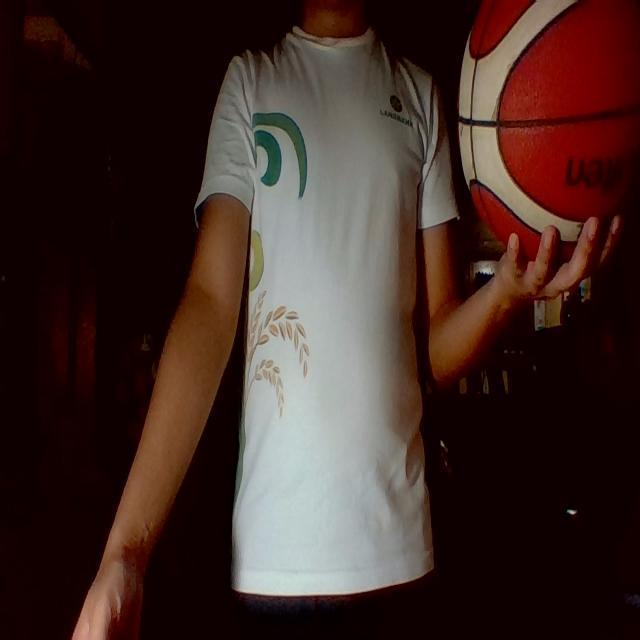ball: (458, 0, 639, 268)
